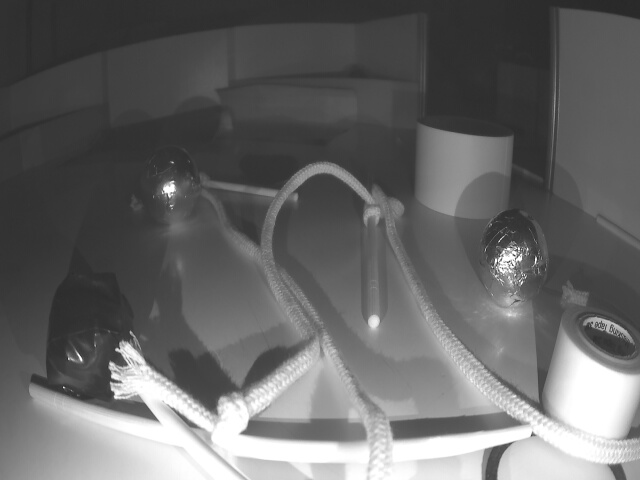Dead: (47, 270, 143, 403)
Live: (475, 203, 545, 311), (141, 149, 205, 224)
Point: (236, 70, 421, 130), (0, 106, 105, 184)
